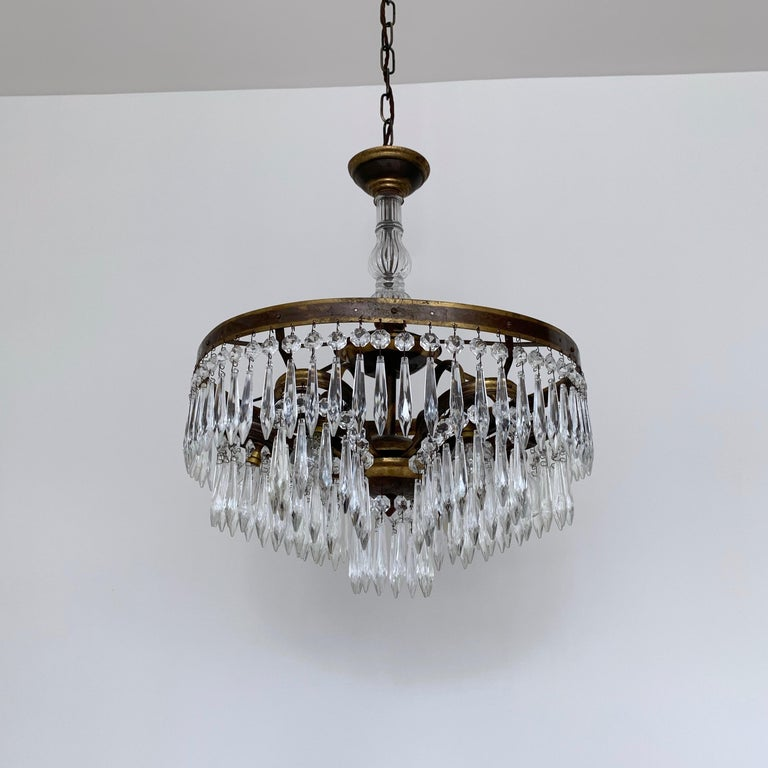chandelier: (171, 9, 604, 618)
